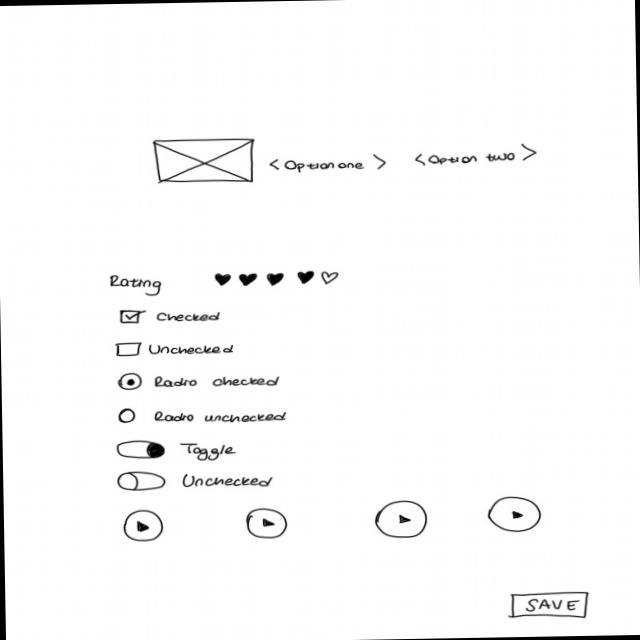button: (508, 590, 589, 619)
checkbox: (114, 338, 238, 359), (118, 306, 225, 326)
image: (152, 136, 256, 184)
label: (179, 471, 276, 490), (106, 272, 163, 296), (180, 441, 238, 461)
link: (413, 142, 538, 168), (267, 152, 387, 173)
radio: (117, 368, 282, 394), (115, 403, 290, 426)
toggle: (115, 437, 167, 459), (116, 471, 168, 492)
